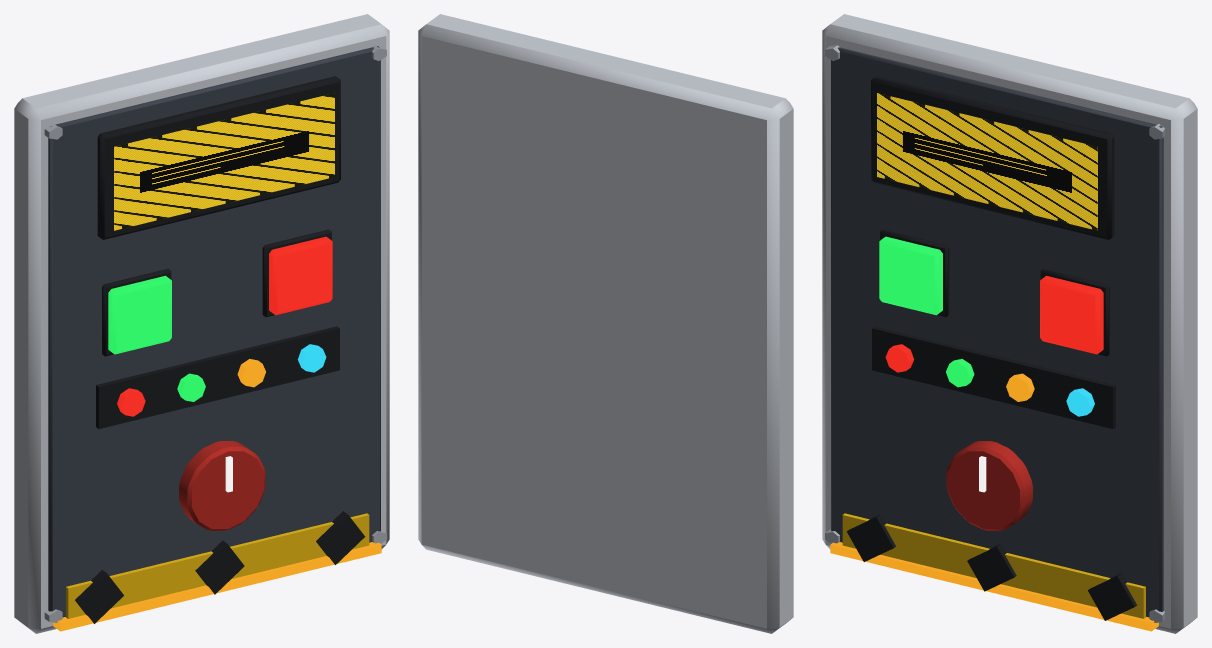
The model's file is controlpanel_airlock_control.glb.
The picture shows the model from 3 angles, left to right: view 1: azimuth 30°, elevation 25°; view 2: azimuth 150°, elevation 25°; view 3: azimuth 330°, elevation 25°; orthographic projection.
Visible parts, largest first — view 1: controlpanel_airlock_control; view 2: controlpanel_airlock_control; view 3: controlpanel_airlock_control.
Part boxes in pixels (x1,y1,x2,y2): controlpanel_airlock_control: [14, 14, 389, 633]; controlpanel_airlock_control: [418, 14, 793, 633]; controlpanel_airlock_control: [822, 14, 1197, 633].
Size of the model in its own units: 0.36 by 0.5 by 0.069.
Materials: 12 (1 with a texture image).
